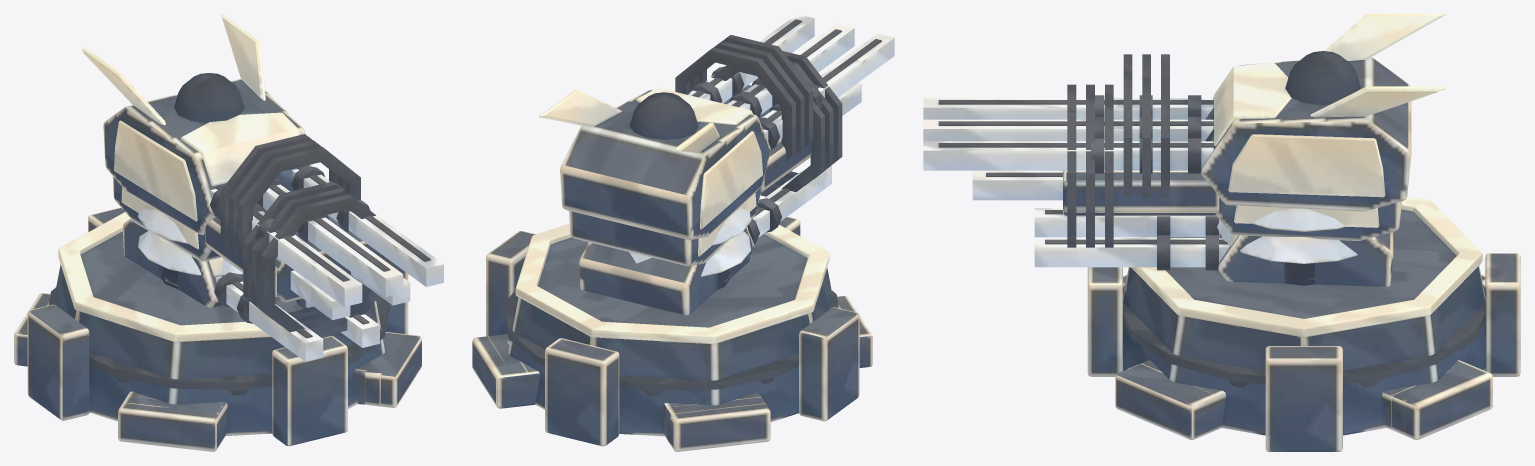
The model's file is bolt_sentinel.glb.
3 views of the same model, side by side, from view 1: azimuth 30°, elevation 25°; view 2: azimuth 150°, elevation 25°; view 3: azimuth 270°, elevation 25° (orthographic). The views are drawn at different scales.
Parts seen in each view (by area): view 1: bolt_mk3_base, bolt_mk2_critcoil, bolt_mk3_buttress3, bolt_mk3_pitch, bolt_mk3_buttress2, bolt_mk3_critcoil, bolt_mk3_trim, bolt_mk3_foot2, bolt_mk3_armorR, bolt_mk3_brow, bolt_mk3_ring, bolt_mk3_rail1 (+23 smaller); view 2: bolt_mk3_base, bolt_mk3_pitch, bolt_mk3_trim, bolt_mk3_buttress1, bolt_mk1_pitch, bolt_mk3_buttress2, bolt_mk3_critcoil, bolt_mk3_foot1, bolt_mk2_pitch, bolt_mk2_critcoil, bolt_mk3_ring, bolt_mk3_armorR (+19 smaller); view 3: bolt_mk3_base, bolt_mk3_pitch, bolt_mk3_trim, bolt_mk3_armorL, bolt_mk3_buttress0, bolt_mk3_rail2, bolt_mk2_shroud, bolt_mk3_foot3, bolt_mk1_pitch, bolt_mk3_ring, bolt_mk3_foot0, bolt_mk2_critcoil (+22 smaller).
Part boxes in pixels (x1=…): bolt_mk3_base: x1=55, y1=231, x2=385, y2=436; bolt_mk2_critcoil: x1=243, y1=181, x2=390, y2=336; bolt_mk3_buttress3: x1=272, y1=336, x2=347, y2=446; bolt_mk3_pitch: x1=103, y1=78, x2=313, y2=234; bolt_mk3_buttress2: x1=27, y1=304, x2=89, y2=420; bolt_mk3_critcoil: x1=220, y1=134, x2=360, y2=258; bolt_mk3_trim: x1=58, y1=212, x2=270, y2=342; bolt_mk3_foot2: x1=118, y1=391, x2=227, y2=451; bolt_mk3_armorR: x1=114, y1=120, x2=197, y2=221; bolt_mk3_brow: x1=181, y1=112, x2=299, y2=186; bolt_mk3_ring: x1=49, y1=287, x2=389, y2=390; bolt_mk3_rail1: x1=263, y1=184, x2=403, y2=296; bolt_mk3_base: x1=508, y1=234, x2=832, y2=436; bolt_mk3_pitch: x1=560, y1=89, x2=770, y2=240; bolt_mk3_trim: x1=515, y1=223, x2=829, y2=343; bolt_mk3_buttress1: x1=545, y1=338, x2=619, y2=446; bolt_mk1_pitch: x1=579, y1=227, x2=754, y2=315; bolt_mk3_buttress2: x1=799, y1=307, x2=859, y2=421; bolt_mk3_critcoil: x1=675, y1=35, x2=813, y2=160; bolt_mk3_foot1: x1=666, y1=393, x2=770, y2=451; bolt_mk2_pitch: x1=569, y1=188, x2=761, y2=266; bolt_mk2_critcoil: x1=711, y1=51, x2=842, y2=196; bolt_mk3_ring: x1=504, y1=290, x2=838, y2=391; bolt_mk3_armorR: x1=700, y1=131, x2=762, y2=229; bolt_mk3_base: x1=1123, y1=209, x2=1485, y2=435; bolt_mk3_pitch: x1=1201, y1=57, x2=1411, y2=211; bolt_mk3_trim: x1=1131, y1=196, x2=1482, y2=337; bolt_mk3_armorL: x1=1228, y1=134, x2=1385, y2=197; bolt_mk3_buttress0: x1=1265, y1=346, x2=1342, y2=451; bolt_mk3_rail2: x1=923, y1=141, x2=1213, y2=170; bolt_mk2_shroud: x1=1063, y1=170, x2=1220, y2=216; bolt_mk3_foot3: x1=1115, y1=360, x2=1226, y2=439; bolt_mk1_pitch: x1=1218, y1=232, x2=1393, y2=286; bolt_mk3_ring: x1=1123, y1=283, x2=1485, y2=384; bolt_mk3_foot0: x1=1385, y1=360, x2=1492, y2=439; bolt_mk2_critcoil: x1=1067, y1=84, x2=1113, y2=247.
Bounding box in the file's own units: 1.96 × 1.56 × 2.7.
1 material, 1 textured.
